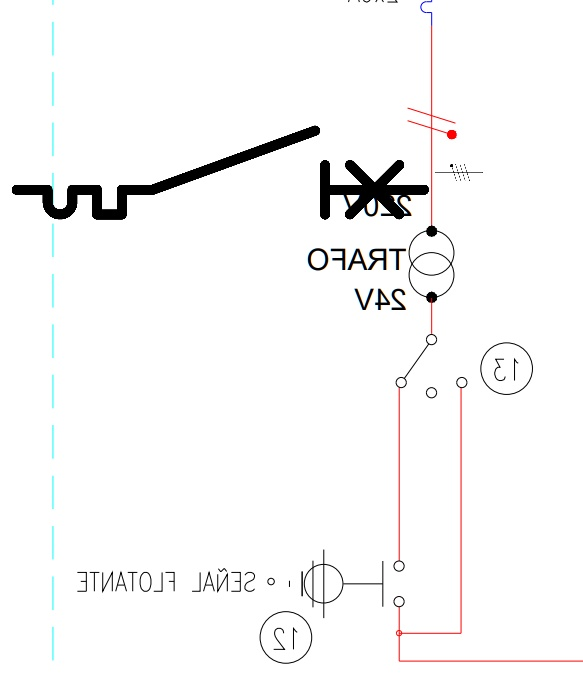interruptor_termomagnetico: (6, 120, 434, 225)
